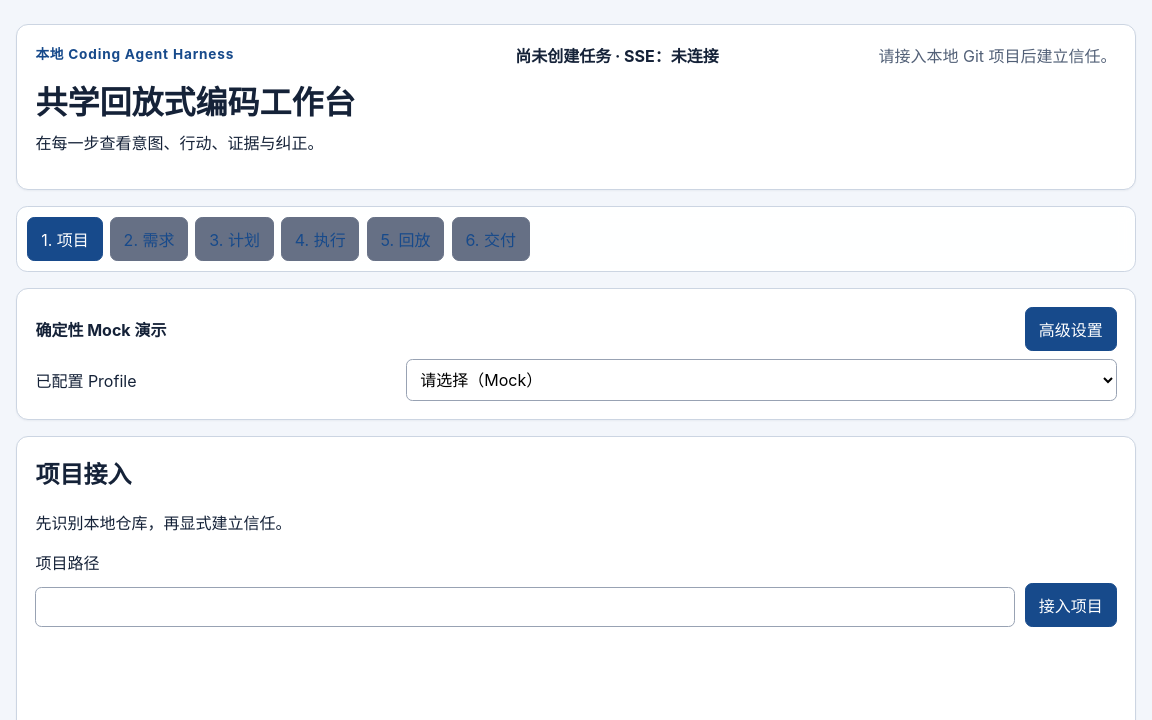
it: App › 高级设置默认 Mock，关闭时清空 Key 并恢复焦点
Click the button "高级设置" at (1071, 329), box left=1025, top=307, right=1117, bottom=351
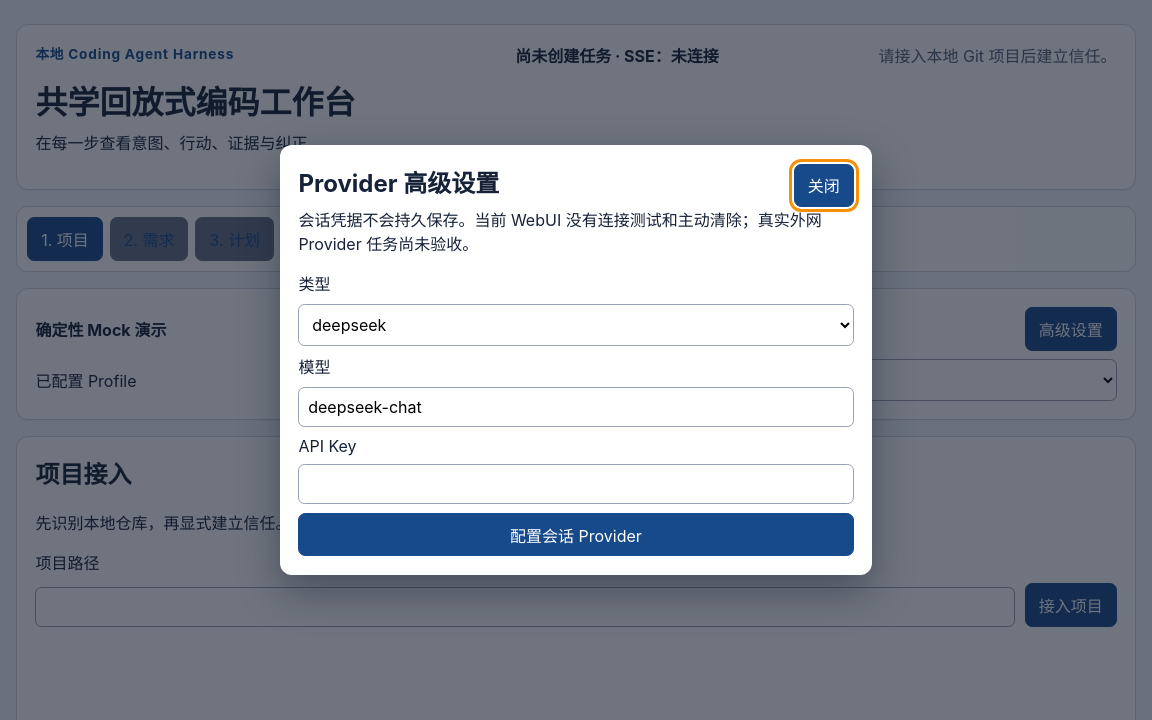
expect the dialog "Provider 高级设置" is shown: met, box left=280, top=145, right=872, bottom=575
Type "test-session-key" into the password field labelled "API Key" at (576, 484), box left=298, top=464, right=854, bottom=504
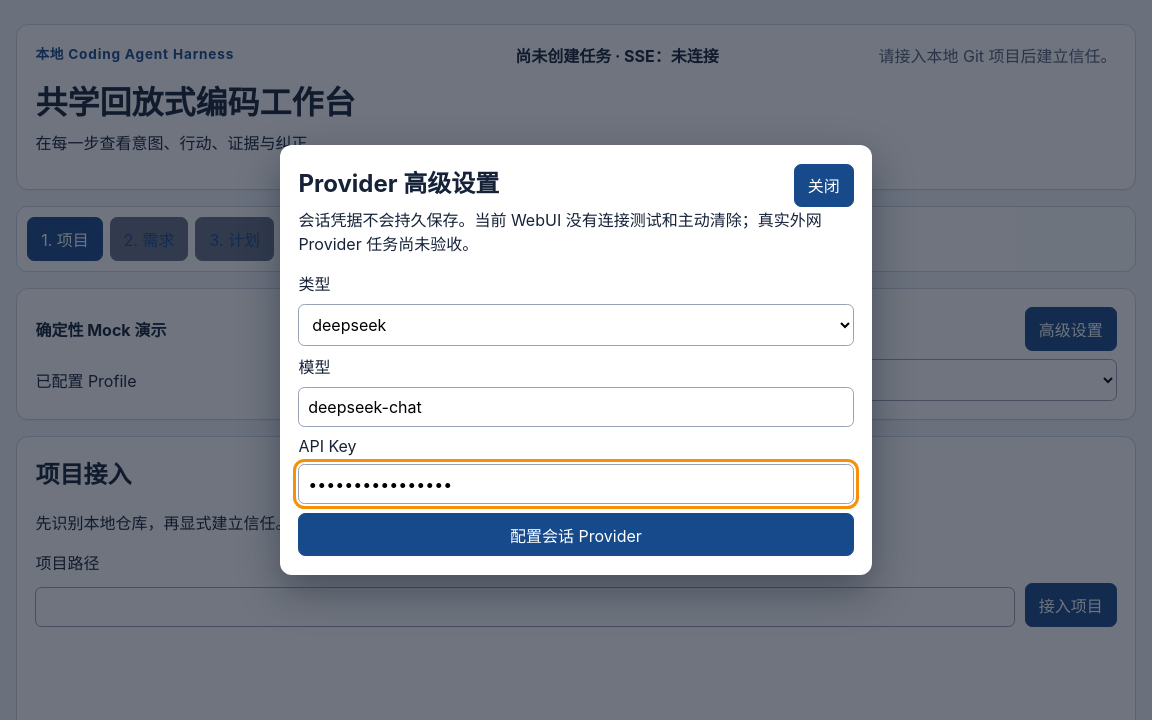
Press Escape
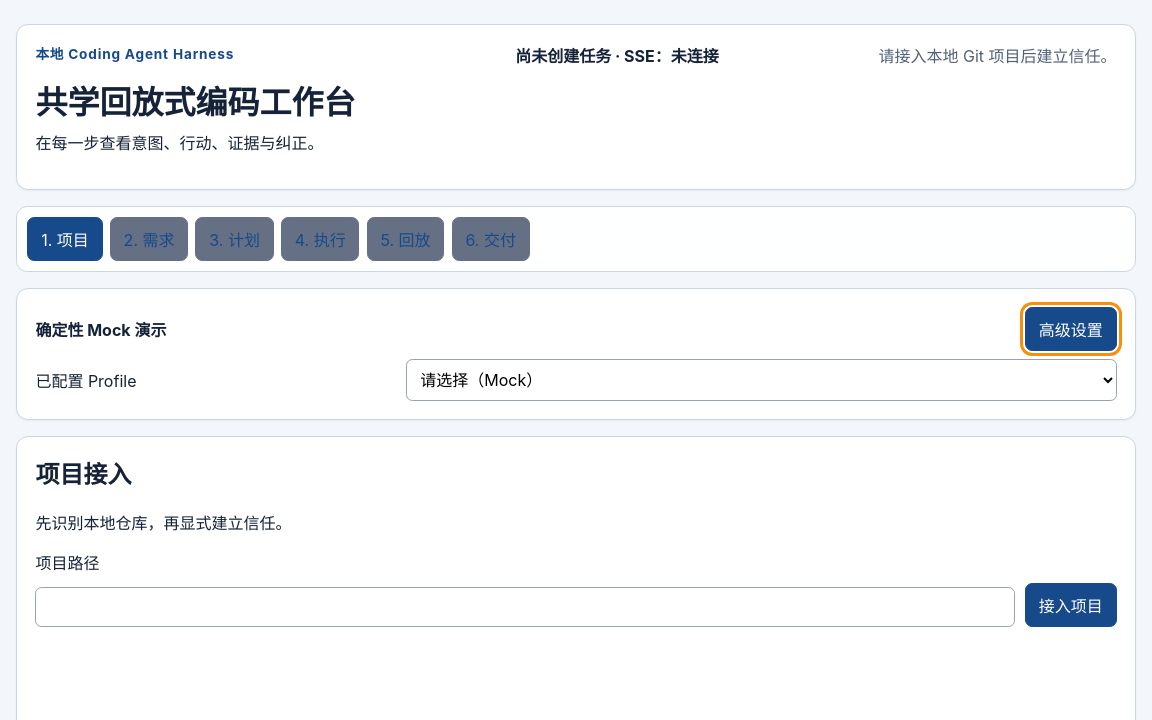
expect the heading "Provider 高级设置" is gone: met
Click the button "高级设置" at (1071, 329), box left=1025, top=307, right=1117, bottom=351
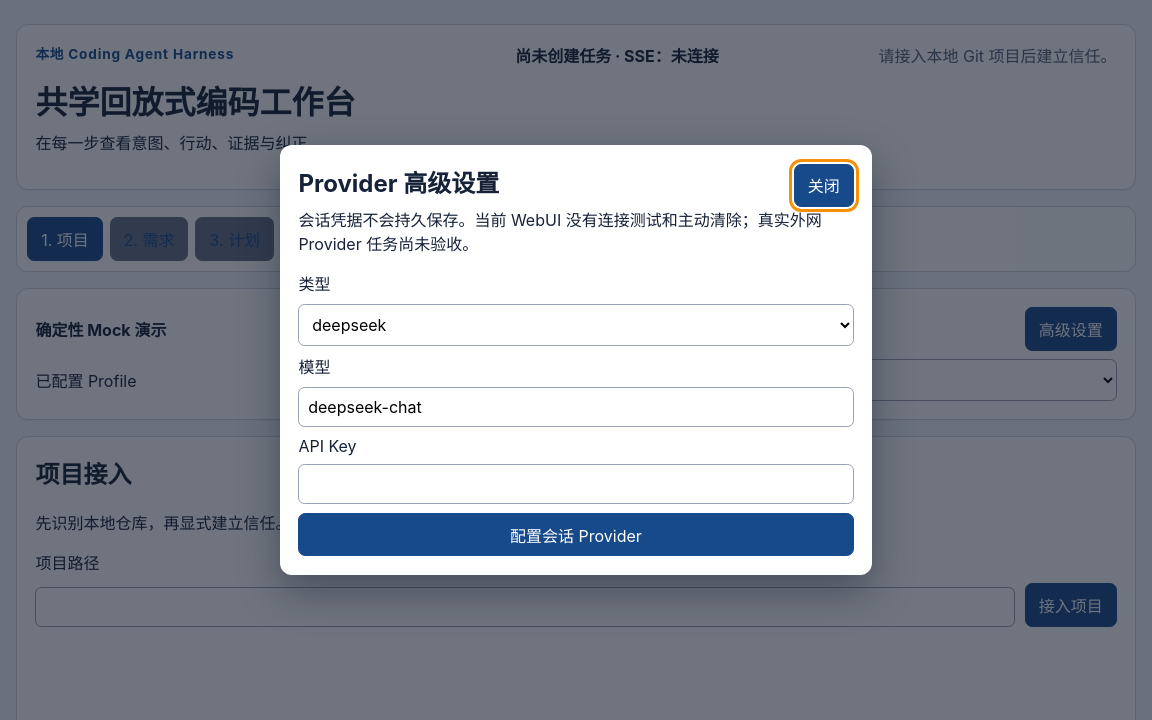
expect the password field labelled "API Key" is empty: met, box left=298, top=464, right=854, bottom=504
expect the text "会话凭据不会持久保存。当前 WebUI 没有连接测试和主动清除；真实外网 Provider 任务尚未验收。" is shown: met, box left=298, top=207, right=854, bottom=255
